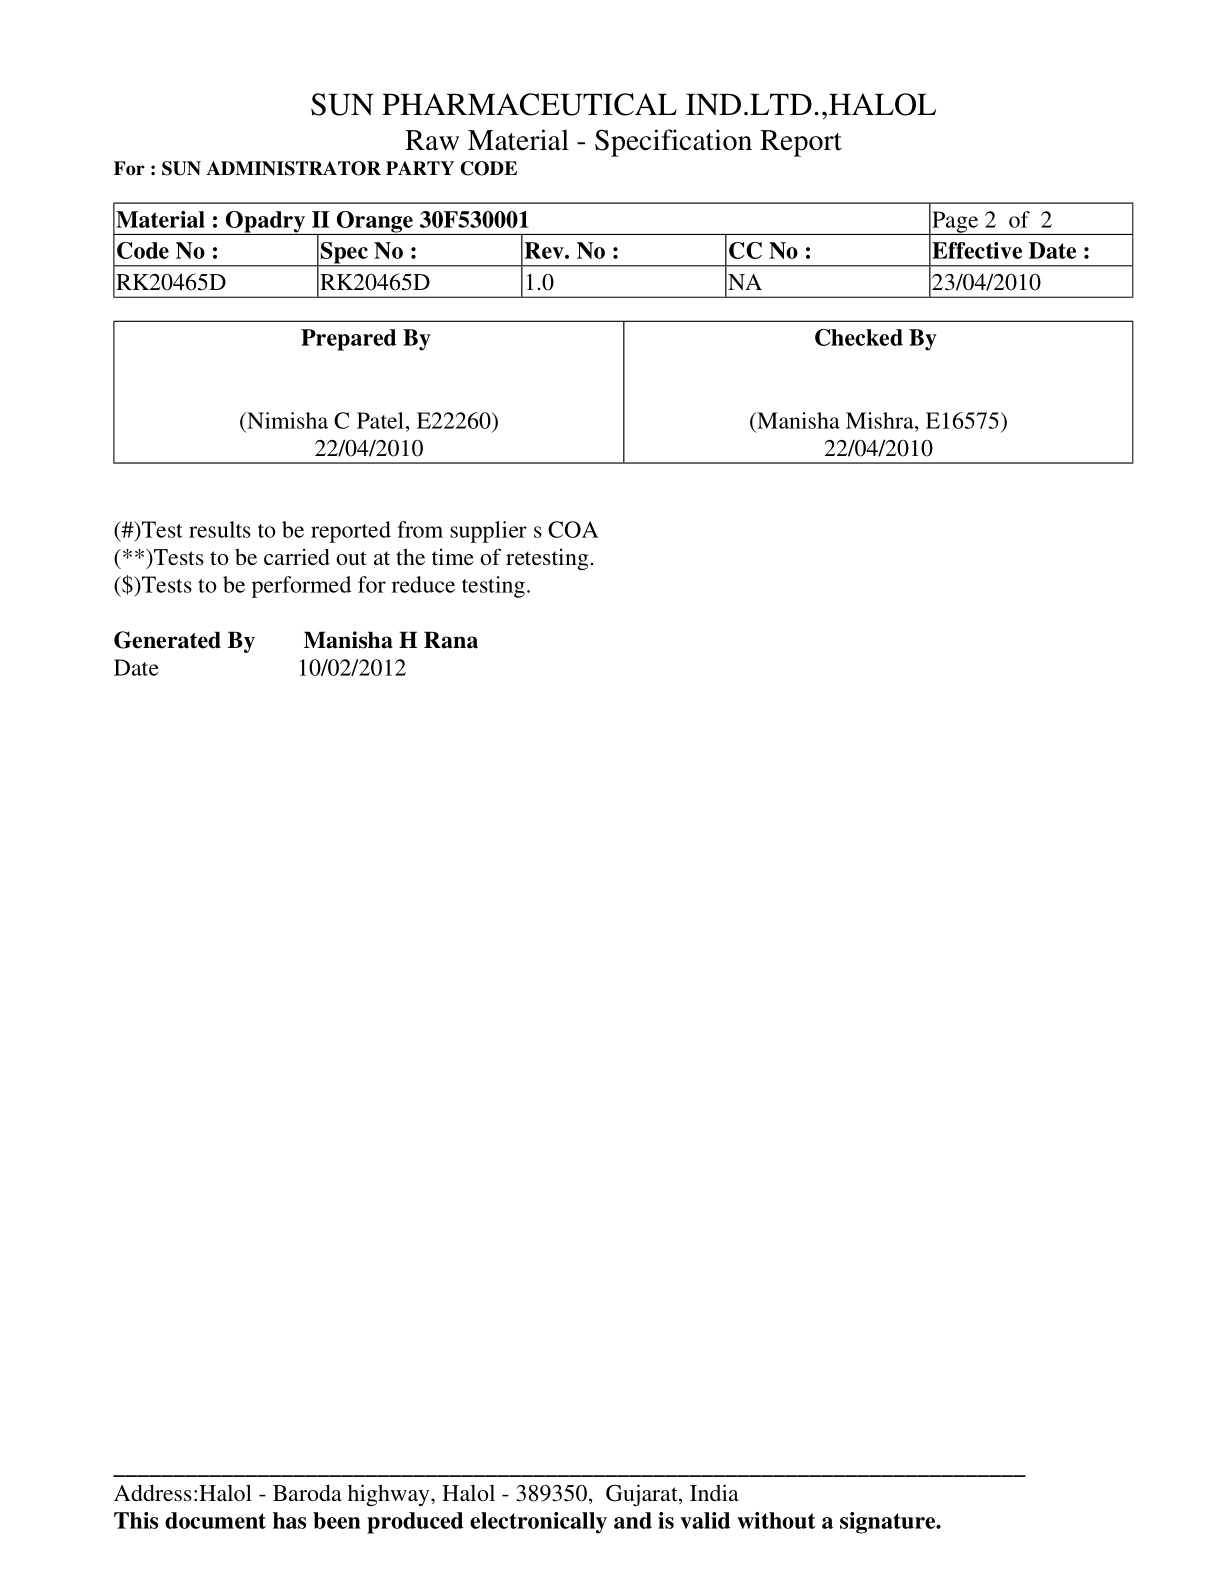full_lined: (111, 319, 1134, 465)
merged_cells: (111, 202, 1134, 300)
